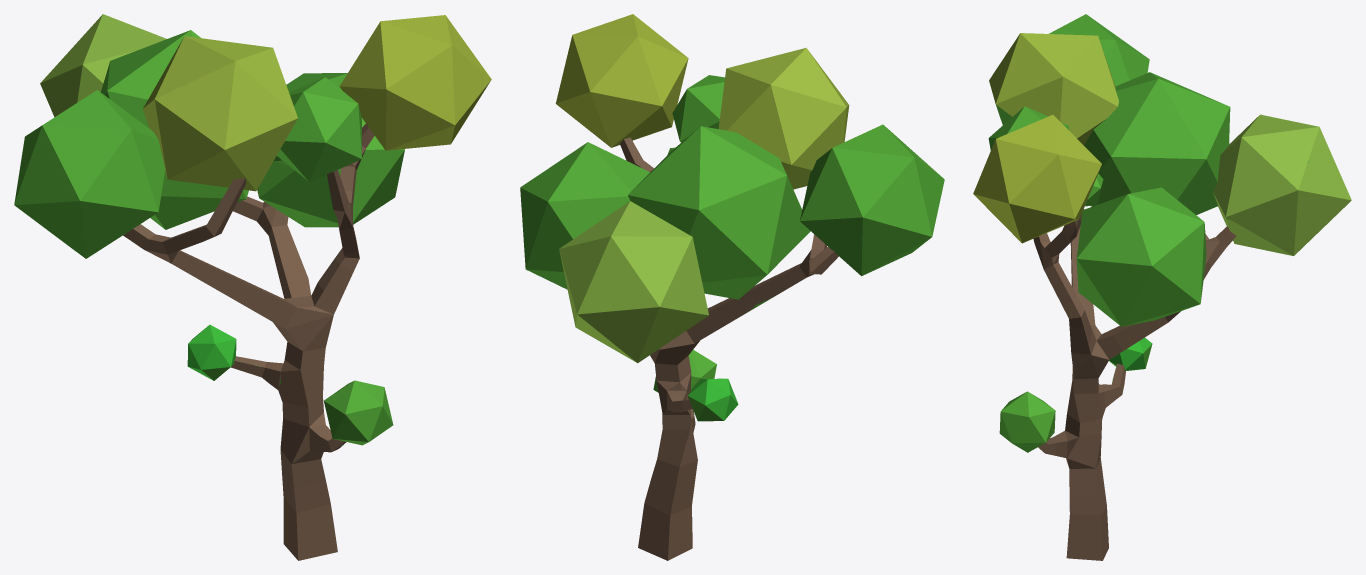
The model's file is BigTree.fbx.
3 views of the same model, side by side, from view 1: azimuth 30°, elevation 25°; view 2: azimuth 150°, elevation 25°; view 3: azimuth 270°, elevation 25° (orthographic). The views are drawn at different scales.
Visible parts, largest first — view 1: Cube; view 2: Cube; view 3: Cube.
Part boxes in pixels (left/top/right/bottom): Cube: left=14, top=14, right=491, bottom=560; Cube: left=520, top=14, right=944, bottom=560; Cube: left=973, top=14, right=1351, bottom=560.
Size of the model in its own units: 1215 by 1474 by 1070.
1 material, 1 textured.
